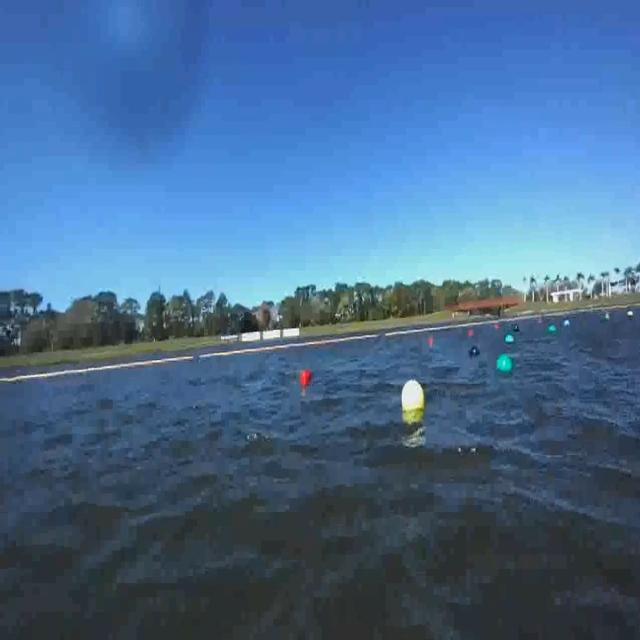black-buoy: (468, 347, 480, 358)
green-buoy: (496, 353, 512, 374)
red-buoy: (302, 371, 312, 386)
yellow-buoy: (403, 380, 425, 412)
